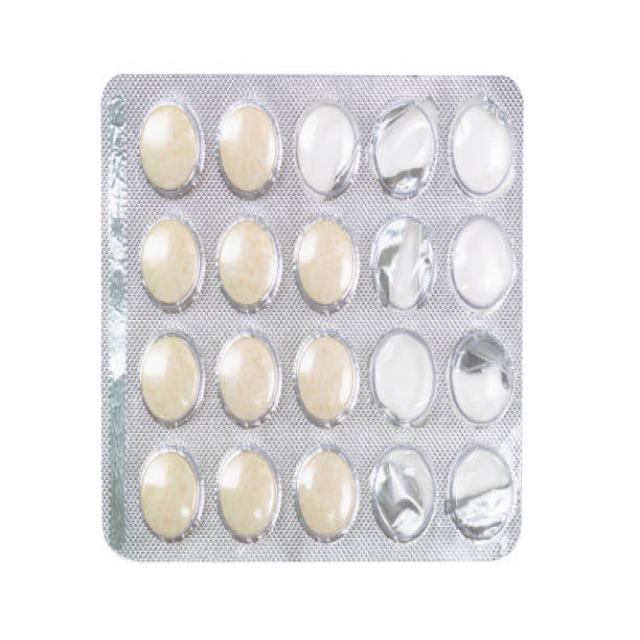Empty: (447, 90, 522, 205), (288, 88, 362, 201), (447, 439, 517, 552), (369, 90, 435, 205), (446, 217, 520, 318), (369, 215, 440, 318), (369, 325, 436, 434), (450, 324, 516, 434), (368, 444, 435, 550)
Pill: (130, 91, 207, 200), (292, 206, 363, 324), (214, 87, 282, 204), (137, 442, 208, 553), (136, 207, 204, 322), (212, 442, 283, 551), (291, 440, 358, 554), (137, 328, 205, 436), (215, 212, 280, 324), (216, 328, 282, 436), (295, 331, 363, 432)
